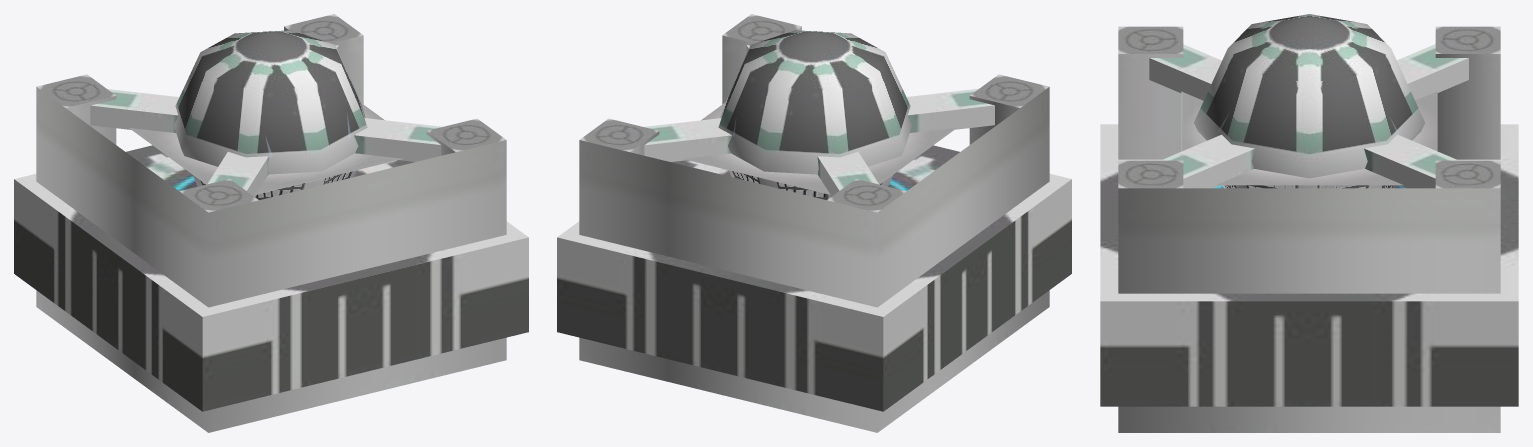
The picture shows the model from 3 angles, left to right: view 1: azimuth 30°, elevation 25°; view 2: azimuth 150°, elevation 25°; view 3: azimuth 270°, elevation 25°; orthographic projection. The views are drawn at different scales.
Visible parts, largest first — view 1: science-academy-lod2; view 2: science-academy-lod2; view 3: science-academy-lod2.
Boxes of the visible parts, x1,y1,x2,y2 form: science-academy-lod2: [14, 14, 528, 432]; science-academy-lod2: [557, 14, 1071, 432]; science-academy-lod2: [1100, 14, 1518, 432].
Size of the model in its own units: 6.2 by 5.46 by 6.2.
2 materials, 1 textured.
